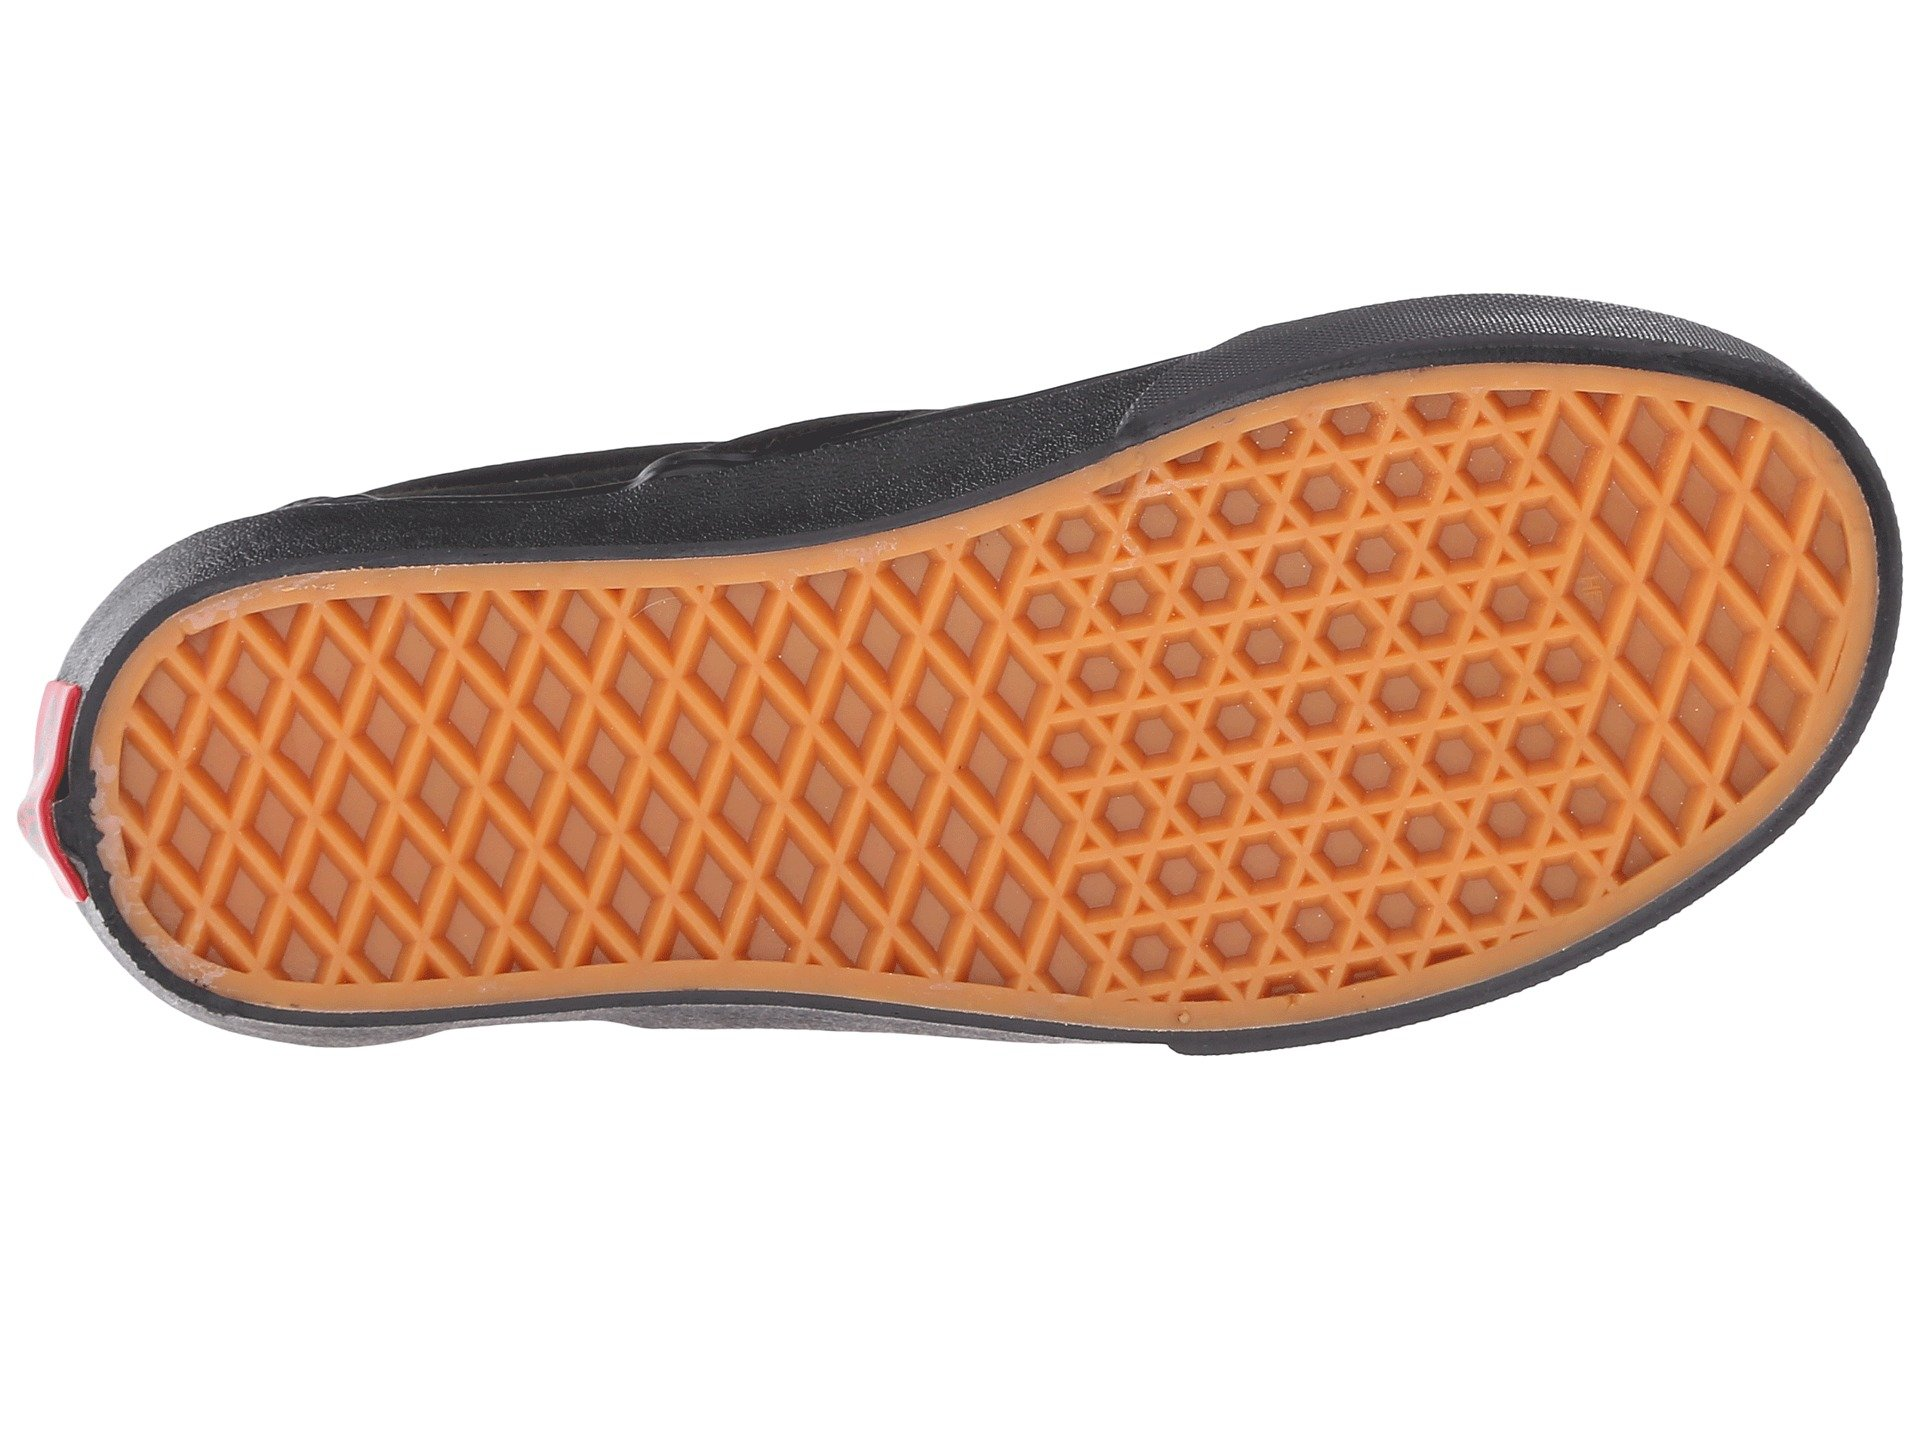polygon: (1031, 227, 1284, 470), (1302, 365, 1550, 607), (1052, 476, 1290, 706), (1287, 135, 1533, 345)
quad: (122, 402, 364, 635), (369, 318, 612, 548), (620, 306, 835, 529), (1551, 144, 1776, 355), (838, 486, 1048, 681), (839, 280, 1011, 473), (1592, 365, 1755, 519), (615, 525, 766, 678)
triangle: (1031, 227, 1284, 470), (1302, 365, 1550, 607), (1052, 476, 1290, 706), (1287, 135, 1533, 345)
